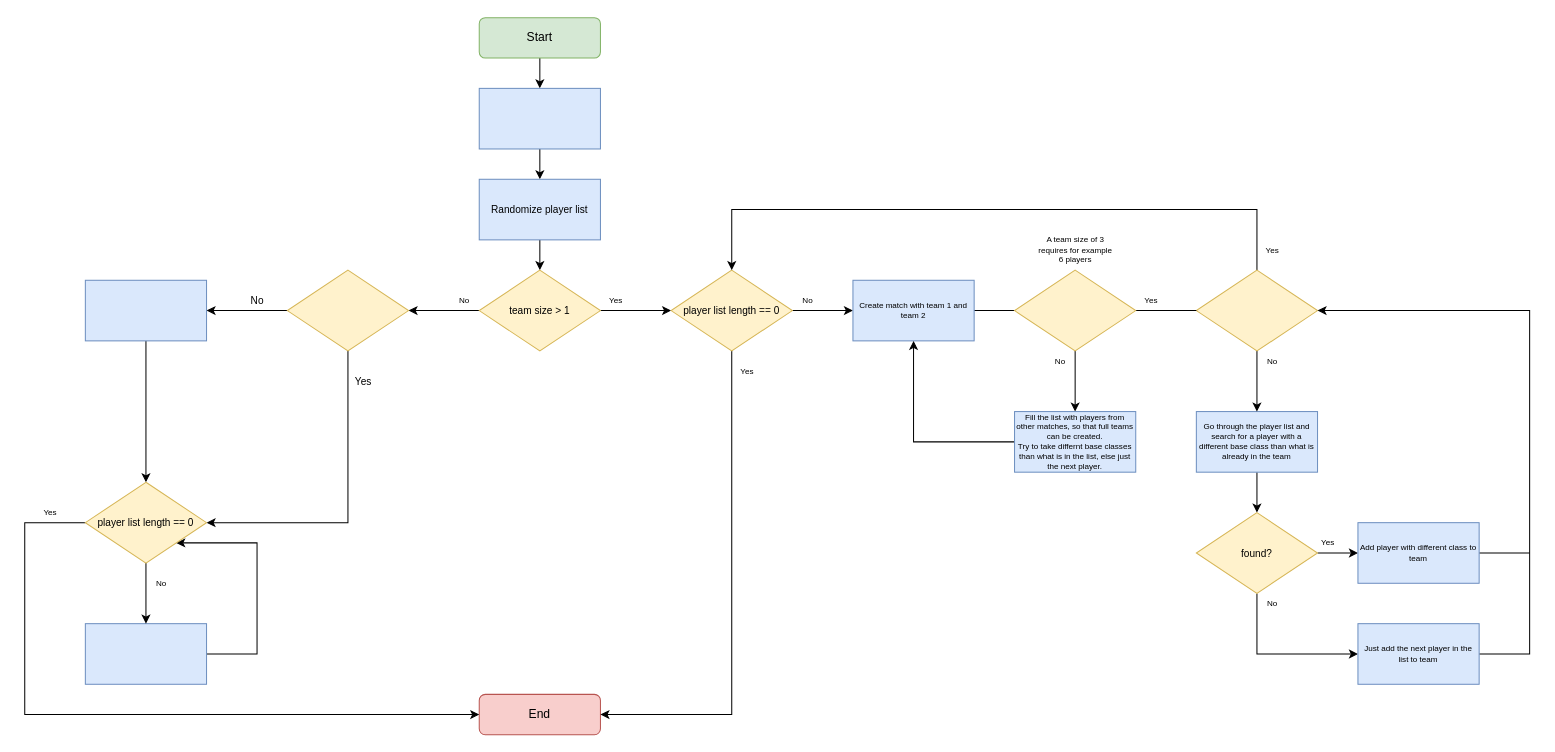
Image size: 1555x752. Some labels were removed from this diagram. The shapes that lost their labels are listed below. From the top down, each one's box as (x1, y1, x2, y2) in pixels, then its label:
(478, 87, 600, 149): Players are entered into the system
(84, 279, 207, 341): Fill out list at the end with a random picked player which will fight twice
(286, 269, 409, 351): even amount of players
(1014, 269, 1136, 351): enough players to fill teams list?
(1195, 269, 1318, 351): team full?
(84, 623, 207, 684): match the next two players in the list
